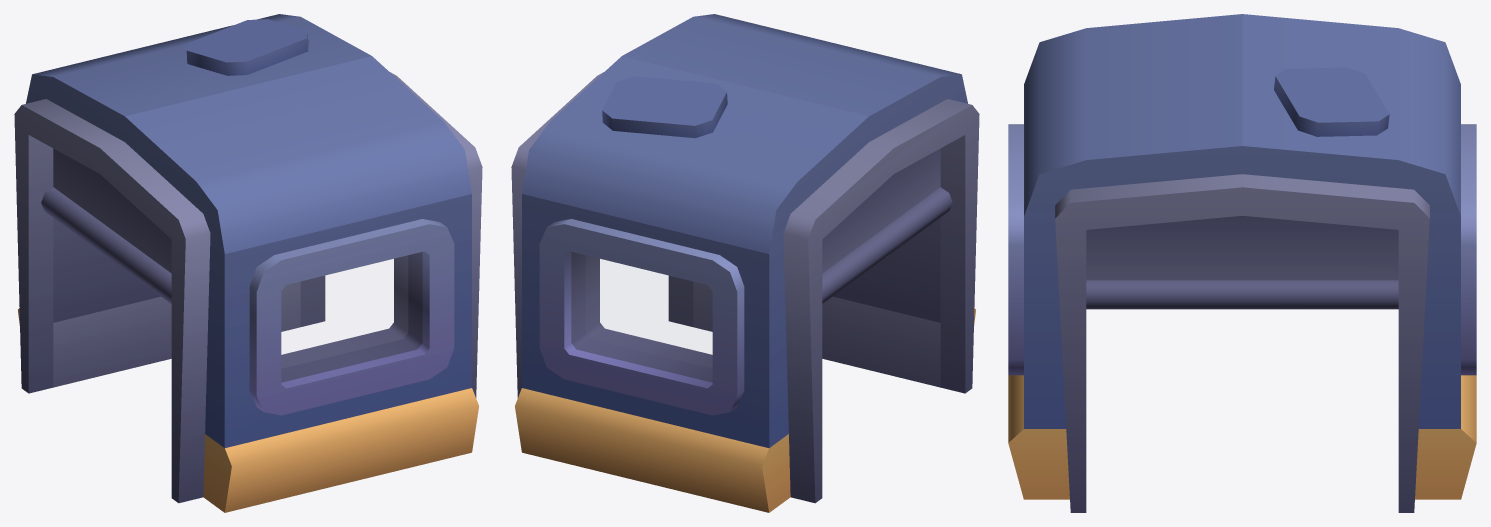
The model's file is rack-window.glb.
3 views of the same model, side by side, from view 1: azimuth 30°, elevation 25°; view 2: azimuth 150°, elevation 25°; view 3: azimuth 270°, elevation 25° (orthographic). The views are drawn at different scales.
Visible parts, largest first — view 1: machine-window; view 2: machine-window; view 3: machine-window.
Boxes of the visible parts, x1=… form: machine-window: x1=14, y1=14, x2=482, y2=512; machine-window: x1=511, y1=14, x2=979, y2=512; machine-window: x1=1008, y1=14, x2=1476, y2=512.
Size of the model in its own units: 1.2 by 1.29 by 1.5.
Materials: 2 (1 with a texture image).
